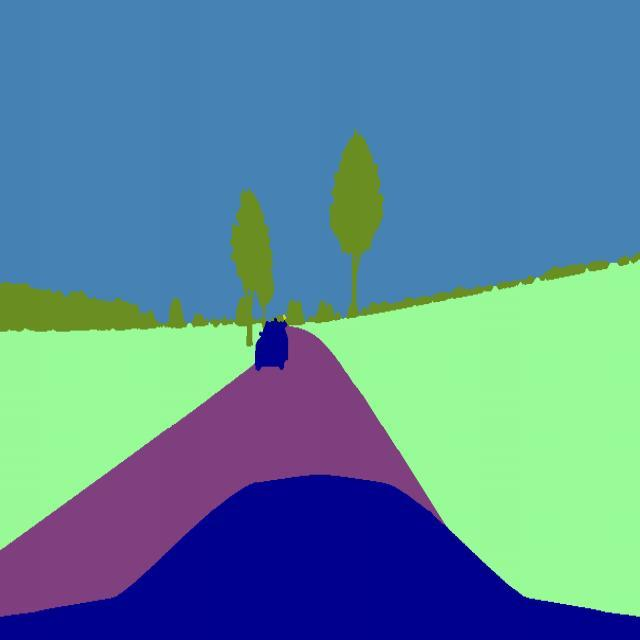safe: (253, 316, 295, 374)
